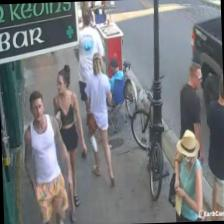person: (22, 90, 72, 224), (50, 62, 88, 219), (83, 52, 114, 183), (177, 62, 206, 201), (170, 127, 203, 222)
